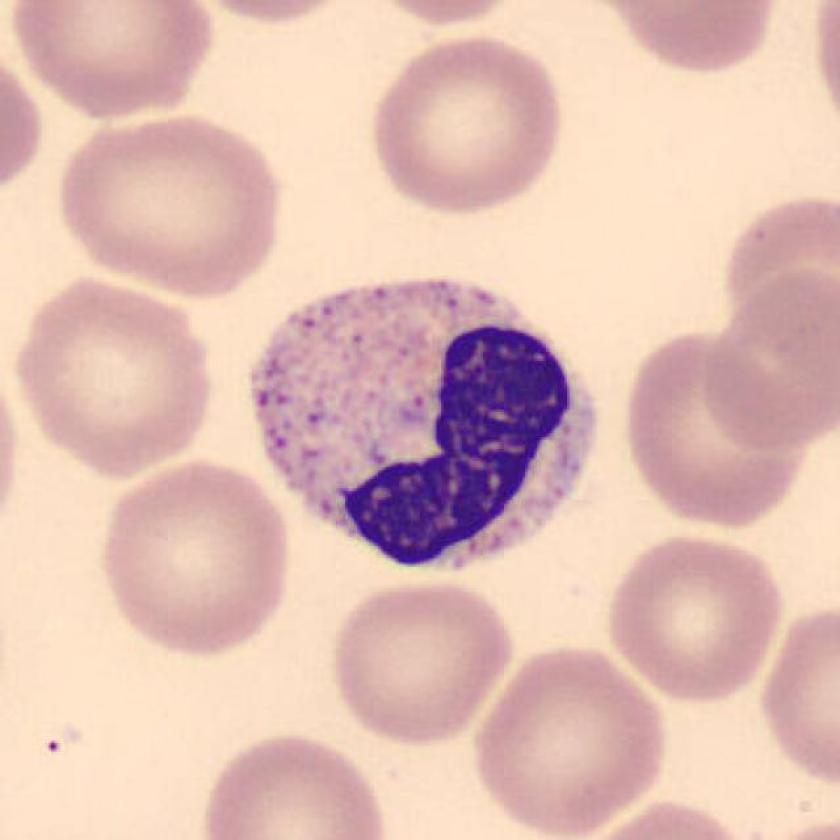neutrophil: (248, 280, 596, 570)
